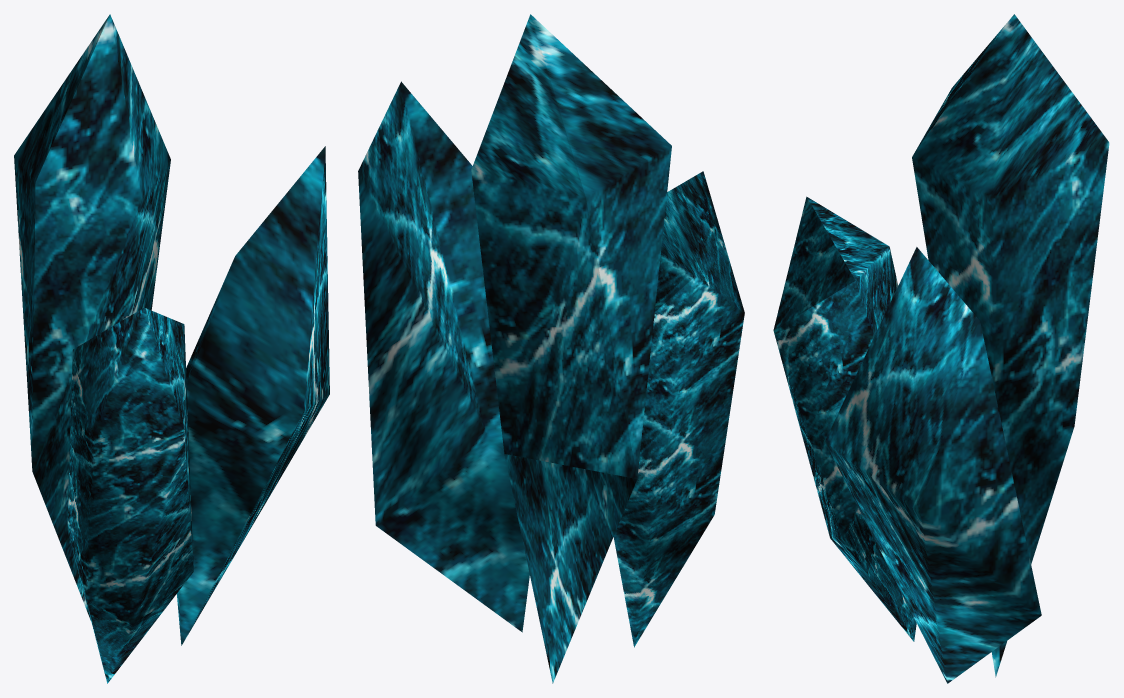
File: c_Cris1c.glb
The picture shows the model from 3 angles, left to right: view 1: azimuth 30°, elevation 25°; view 2: azimuth 150°, elevation 25°; view 3: azimuth 270°, elevation 25°; orthographic projection. The views are drawn at different scales.
Visible parts, largest first — view 1: c_Cris1c; view 2: c_Cris1c; view 3: c_Cris1c.
Boxes of the visible parts, x1=… form: c_Cris1c: x1=14, y1=14, x2=329, y2=683; c_Cris1c: x1=358, y1=14, x2=744, y2=683; c_Cris1c: x1=773, y1=14, x2=1109, y2=683.
Bounding box in the file's own units: 0.3824 × 0.8068 × 0.3667.
1 material, 1 textured.
